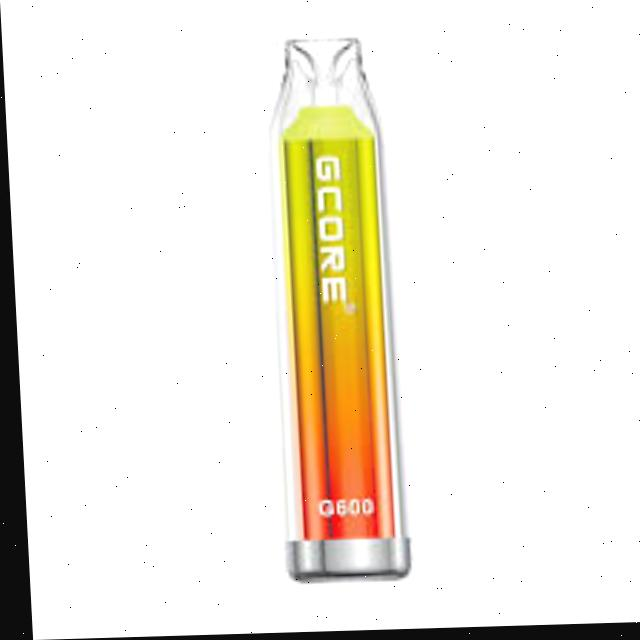vape: (260, 41, 405, 587)
